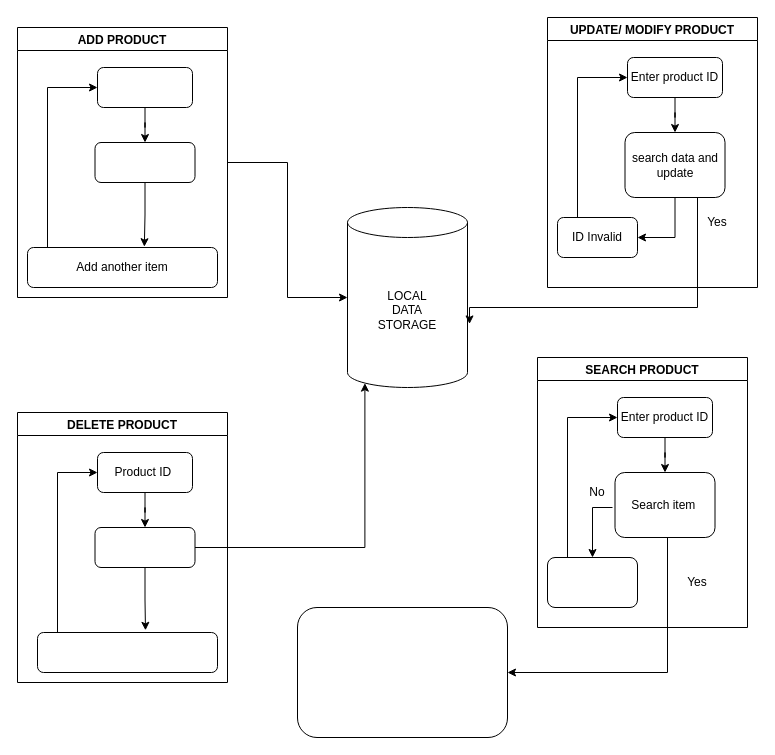
Some shapes in this 775 by 755 pixel diagram are drawn without their labels. The shapes that lost their labels are listed below. From the top down, each one's centre as x and y in pixels, then its label:
At pixel 144 87: "Add item".
At pixel 144 162: "store data".
At pixel 144 547: "If present delete in local storage".
At pixel 592 582: "search another".
At pixel 127 652: "delete another item".
At pixel 402 672: "Display Items".
